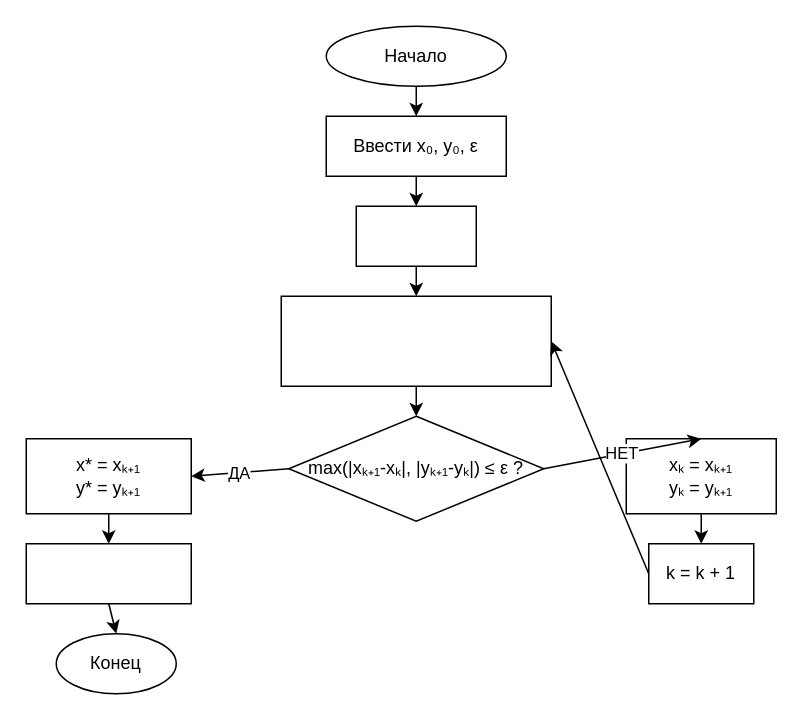
The diagram is 803 pixels wide and 720 high, and some of its shapes have lost their labels. Each missing label, with the centre of its shape:
"k = 0" goes at point (415, 235).
"Вывод: x*, y*, k" goes at point (108, 573).
"Вычислить: xₖ₊₁ = φ₁(xₖ, y) yₖ₁ = φ₂(xₖ, yₖ)" goes at point (415, 340).
